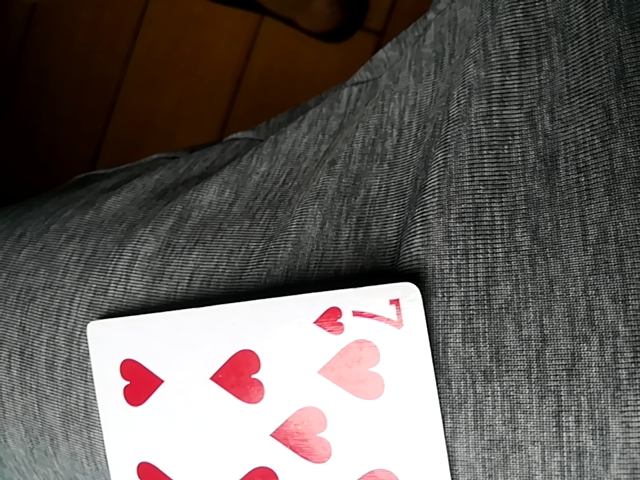hx 7: (90, 285, 451, 476)
